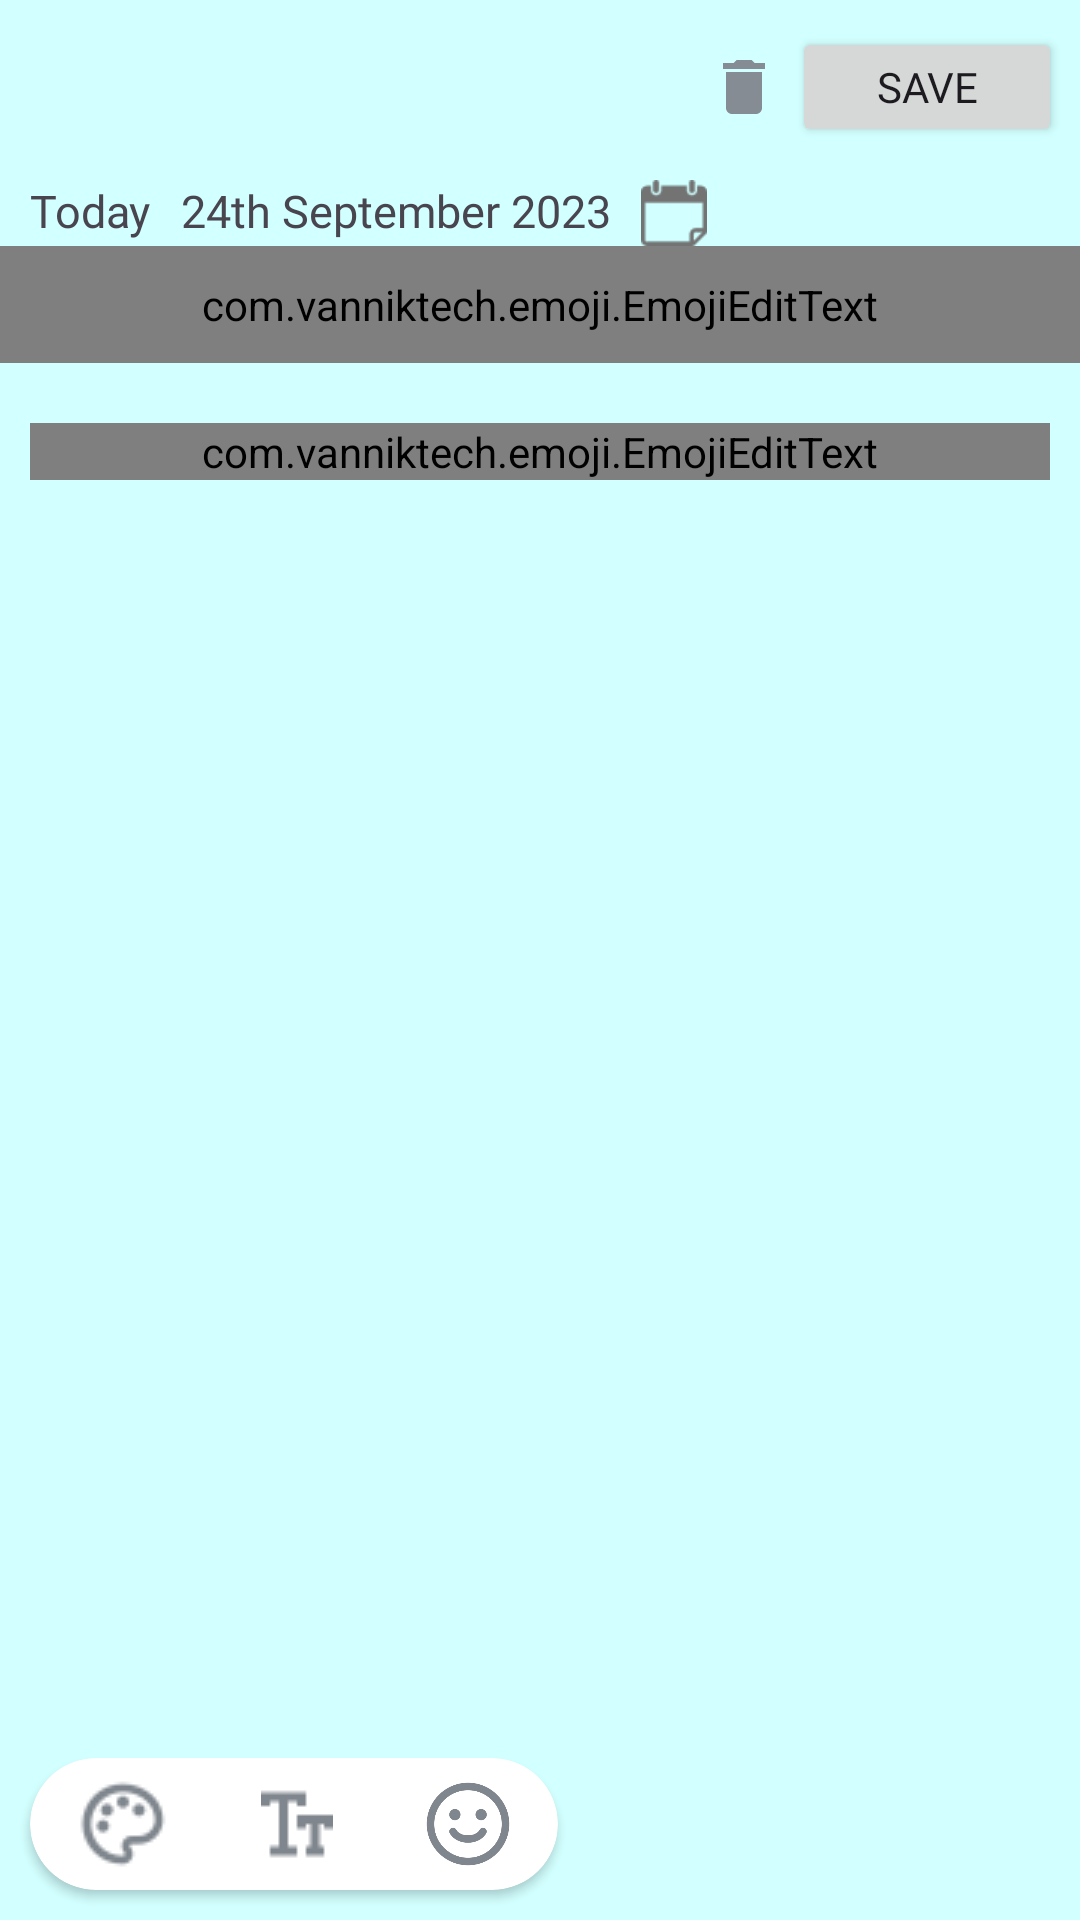

Icon bounding boxes for this 1080 x 1920 phone screenshot, format (x1, y1, x2, y2):
calender view: (641, 180, 707, 246)
emoji: (427, 1783, 509, 1865)
palette: (81, 1782, 164, 1866)
